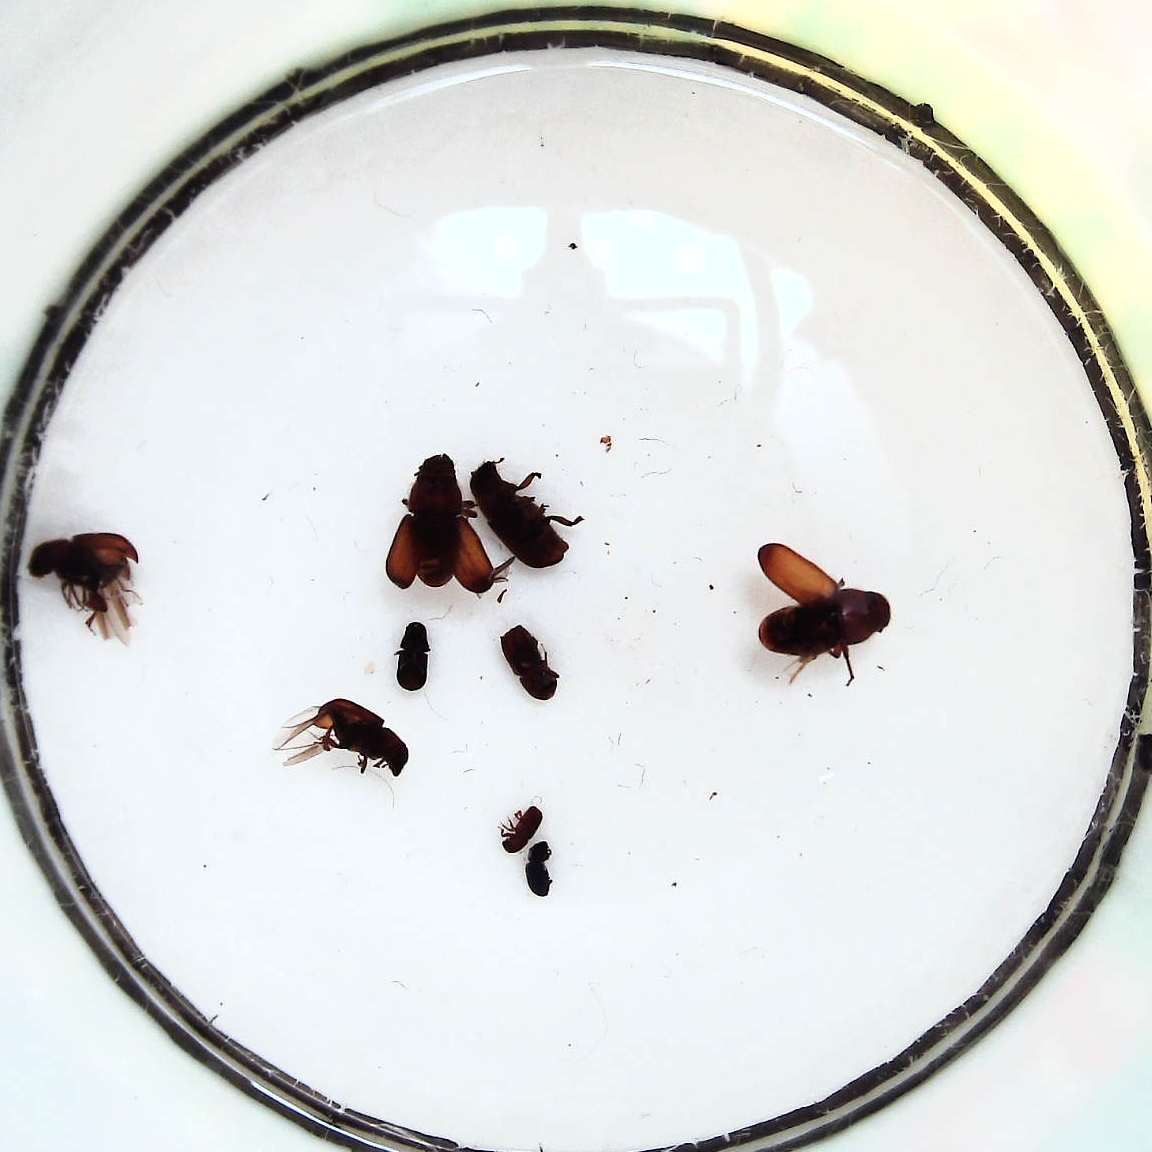Leconte: (747, 545, 892, 683), (385, 450, 495, 598), (18, 529, 137, 642), (475, 457, 587, 570), (272, 698, 411, 786)
Linnaeus: (499, 618, 561, 702)
acuminatus: (498, 800, 544, 853)
armandi: (390, 621, 433, 694)
coleoptera: (524, 842, 559, 902)
